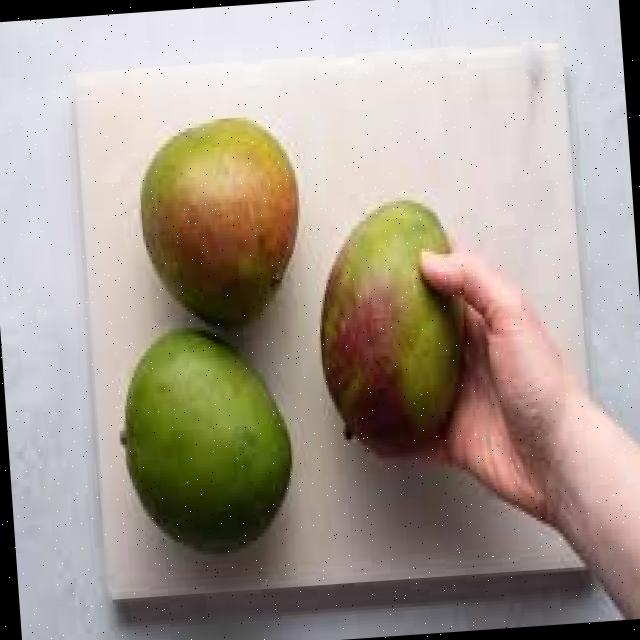mango: (317, 202, 462, 461)
